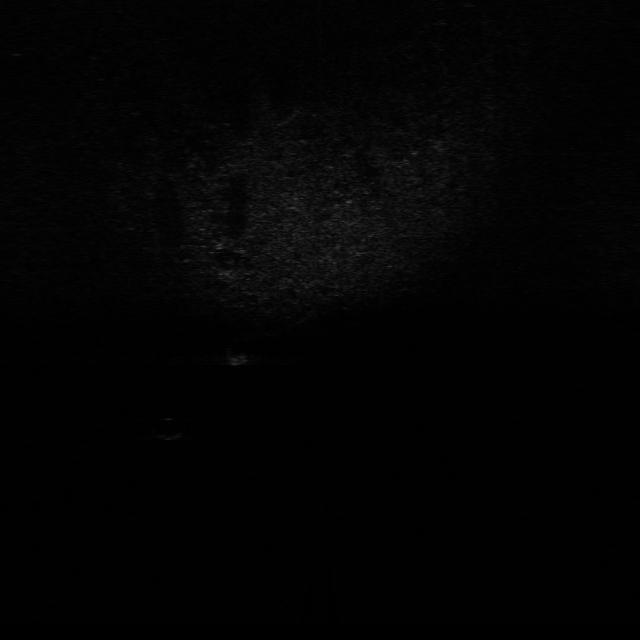ball: (151, 415, 187, 442)
cube: (226, 345, 254, 370)
